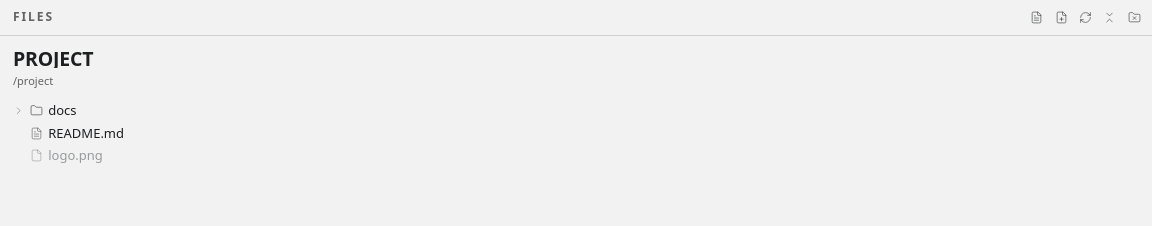
it: FileTreePanel › expands and collapses folders on click
The width and height of the screenshot is (1152, 226).
Click the list item "docs": point(45, 110) left=13, top=101, right=77, bottom=119
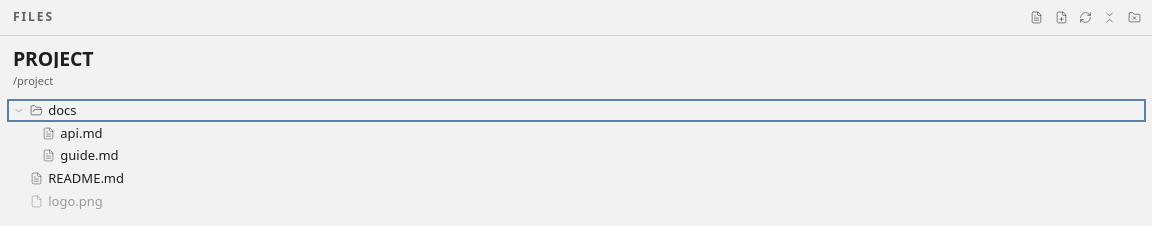
Expected: the list item "docs" is expanded
Click the list item "docs": point(45, 110) left=13, top=101, right=77, bottom=119
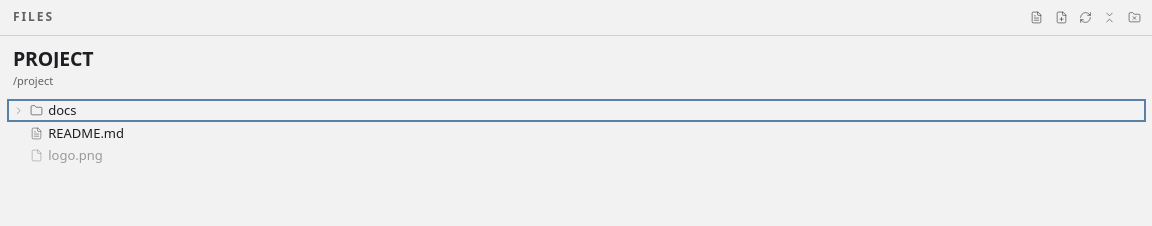
Expected: the list item "docs" is collapsed
Expected: the text "api.md" is gone
Click the list item "docs": point(45, 110) left=13, top=101, right=77, bottom=119
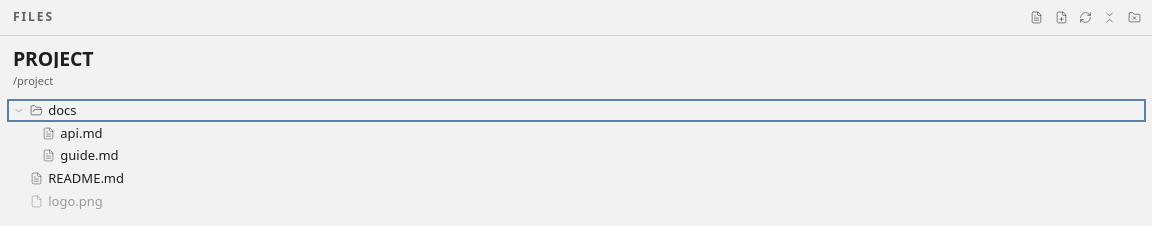
Click the button named "Collapse all folders": point(1110, 17) left=1098, top=6, right=1121, bottom=29
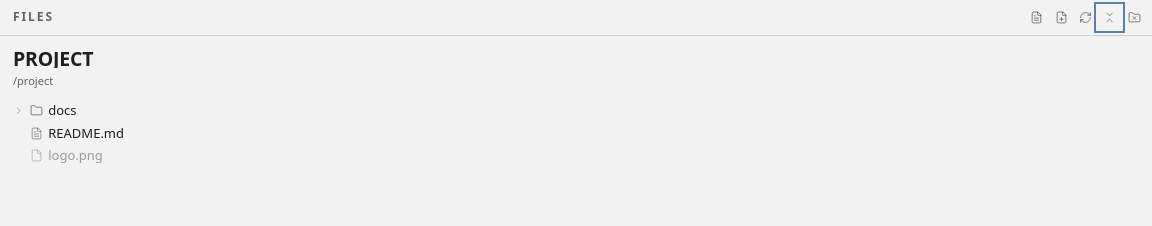
Expected: the text "api.md" is gone
